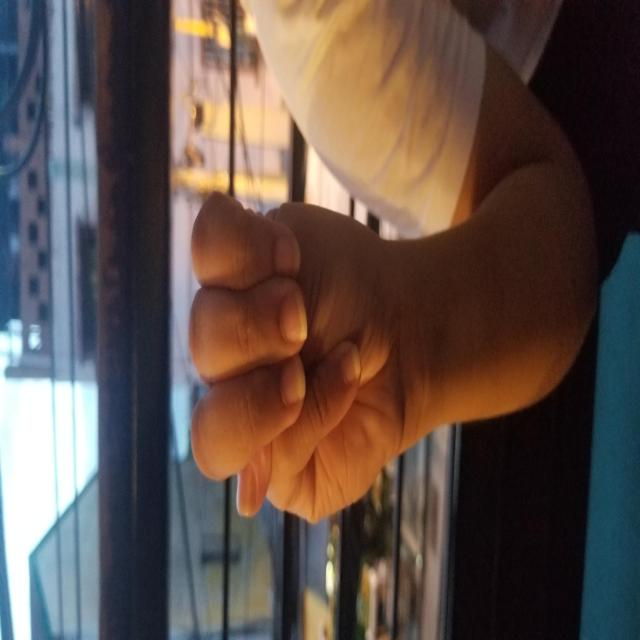M: (112, 175, 444, 578)
